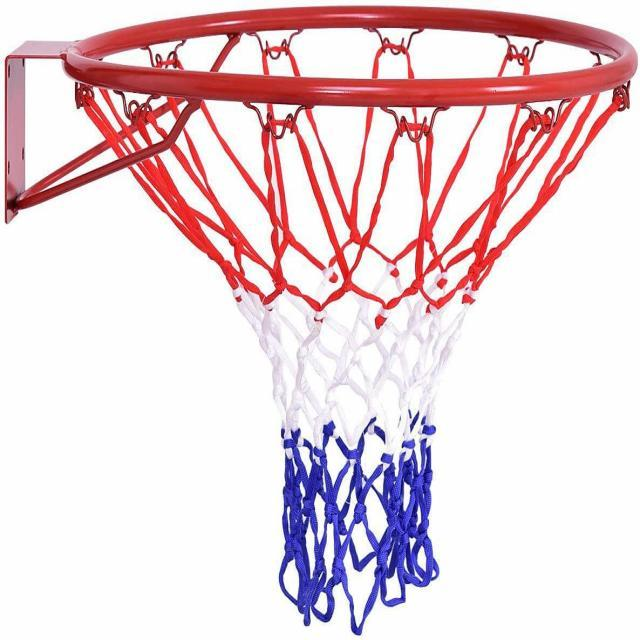hoop: (64, 7, 636, 638)
